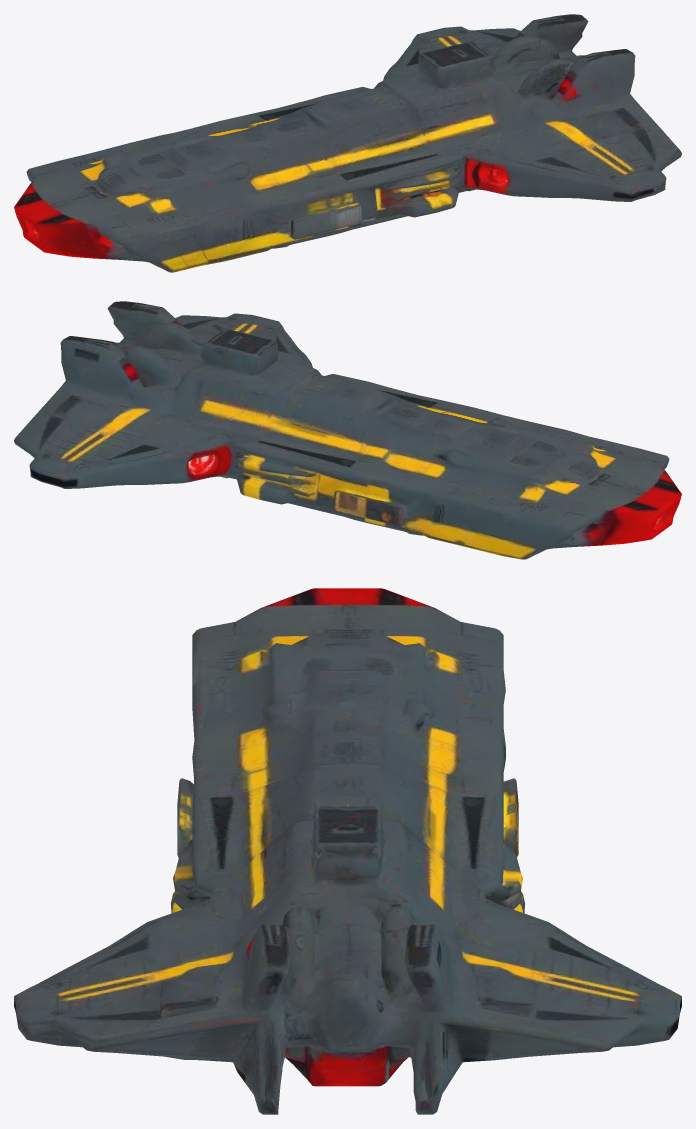
Rendered from titan.glb.
The picture shows the model from 3 angles, top to bottom: view 1: azimuth 30°, elevation 25°; view 2: azimuth 150°, elevation 25°; view 3: azimuth 270°, elevation 25°; orthographic projection. The views are drawn at different scales.
Bounding box in the file's own units: 1.91 × 0.411 × 1.22.
Materials: 1 (1 with a texture image).
